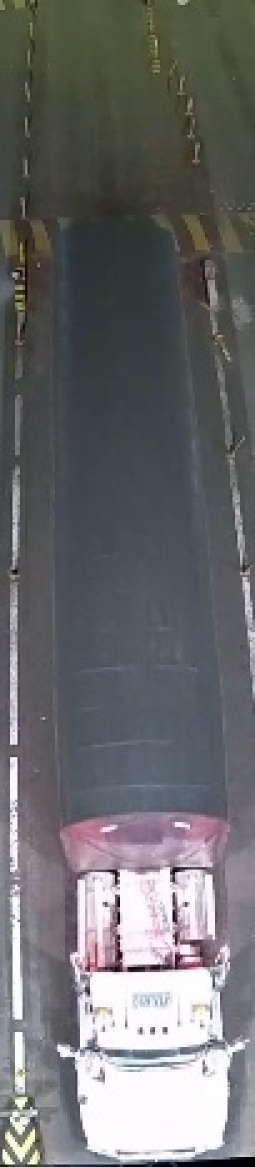truck: (43, 212, 244, 1160)
